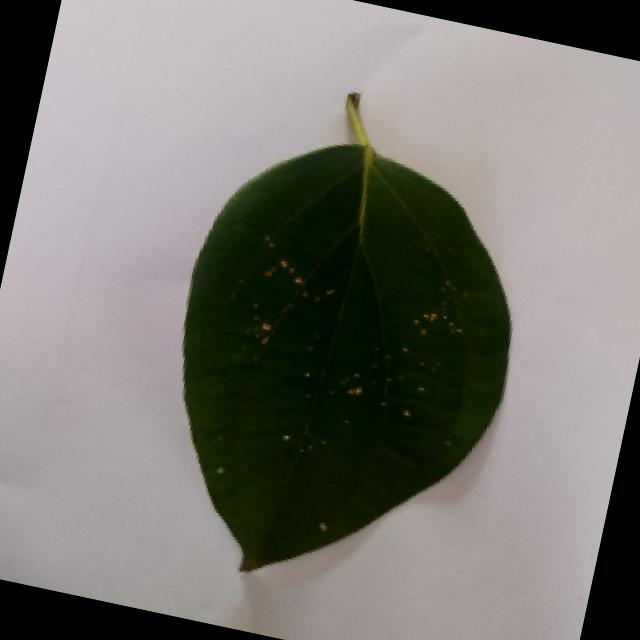pollu-disease: (137, 84, 558, 616)
